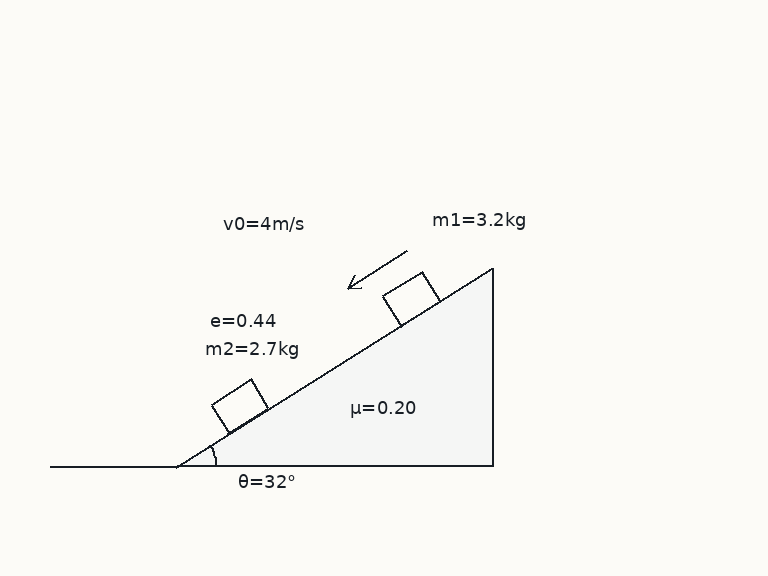block: (381, 270, 442, 328), (209, 377, 270, 435)
ramp: (174, 266, 494, 468)
